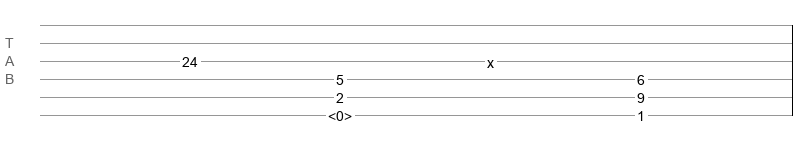1: (637, 108, 645, 118)
2: (336, 90, 344, 100)
24: (182, 54, 198, 64)
5: (336, 72, 344, 82)
6: (637, 72, 645, 82)
9: (637, 90, 645, 100)
harmonic: (328, 108, 352, 118)
x: (487, 55, 494, 63)
